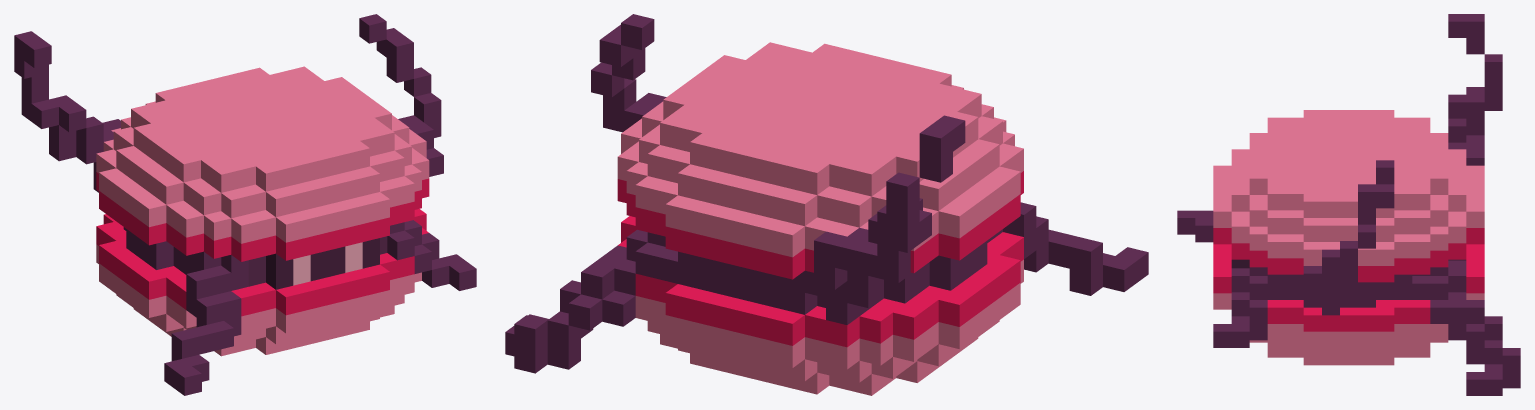
Rendered from macaron.obj.
3 renders of one model, left to right at view 1: azimuth 30°, elevation 25°; view 2: azimuth 150°, elevation 25°; view 3: azimuth 270°, elevation 25°, orthographic. The views are drawn at different scales.
Size of the model in its own units: 2 by 1.4 by 1.9.
Materials: 1 (1 with a texture image).
